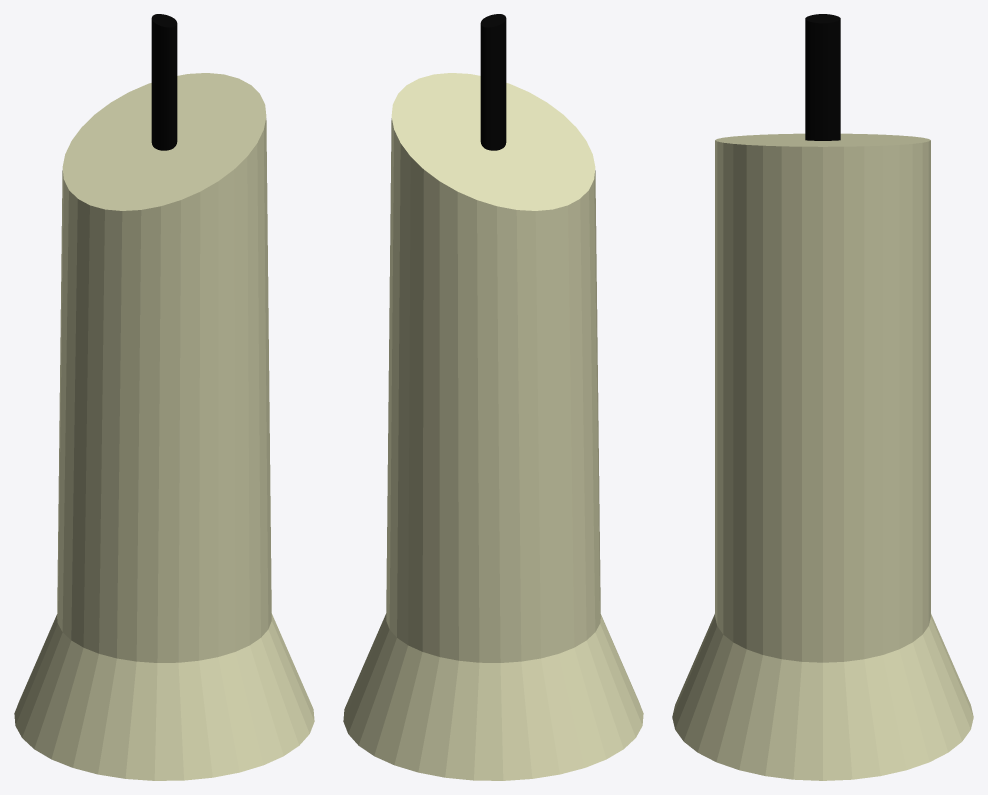
File: candela.fbx
The picture shows the model from 3 angles, left to right: view 1: azimuth 30°, elevation 25°; view 2: azimuth 150°, elevation 25°; view 3: azimuth 270°, elevation 25°; orthographic projection.
Visible parts, largest first — view 1: Cylinder; view 2: Cylinder; view 3: Cylinder.
Part boxes in pixels (left/top/right/bottom): Cylinder: left=14, top=14, right=314, bottom=780; Cylinder: left=343, top=14, right=643, bottom=780; Cylinder: left=672, top=14, right=973, bottom=780.
Bounding box in the file's own units: 47.65 × 122 × 47.65.
